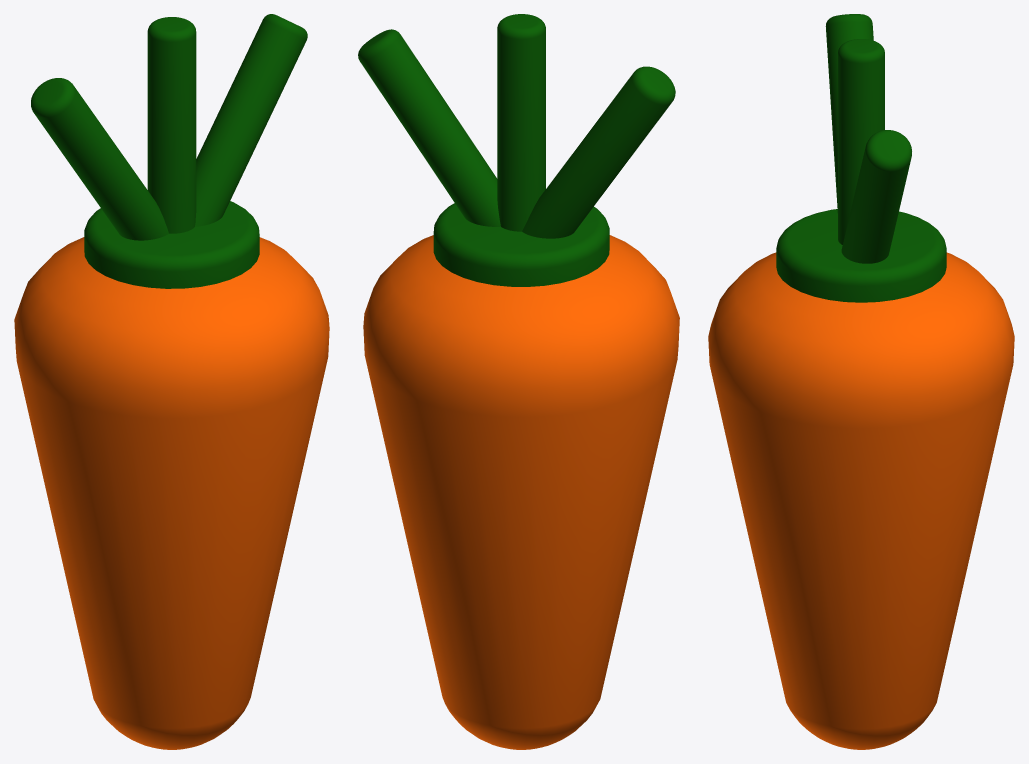
The model's file is carrot.fbx.
3 views of the same model, side by side, from view 1: azimuth 30°, elevation 25°; view 2: azimuth 150°, elevation 25°; view 3: azimuth 270°, elevation 25° (orthographic). The views are drawn at different scales.
Parts seen in each view (by area): view 1: Cylinder.007, Cylinder.004, Cylinder.005, Cylinder.006; view 2: Cylinder.007, Cylinder.004, Cylinder.005, Cylinder.006; view 3: Cylinder.007, Cylinder.004, Cylinder.005, Cylinder.006.
Boxes of the visible parts, left/top/right/bottom form: Cylinder.007: left=14, top=237, right=329, bottom=749; Cylinder.004: left=84, top=14, right=307, bottom=288; Cylinder.005: left=147, top=17, right=196, bottom=233; Cylinder.006: left=31, top=78, right=168, bottom=240; Cylinder.007: left=363, top=235, right=679, bottom=749; Cylinder.004: left=358, top=29, right=609, bottom=286; Cylinder.005: left=497, top=14, right=545, bottom=231; Cylinder.006: left=522, top=66, right=675, bottom=238; Cylinder.007: left=708, top=252, right=1014, bottom=749; Cylinder.004: left=776, top=130, right=946, bottom=302; Cylinder.005: left=838, top=39, right=884, bottom=244; Cylinder.006: left=825, top=14, right=873, bottom=212.
Size of the model in its own units: 68.6 by 162 by 64.83.
